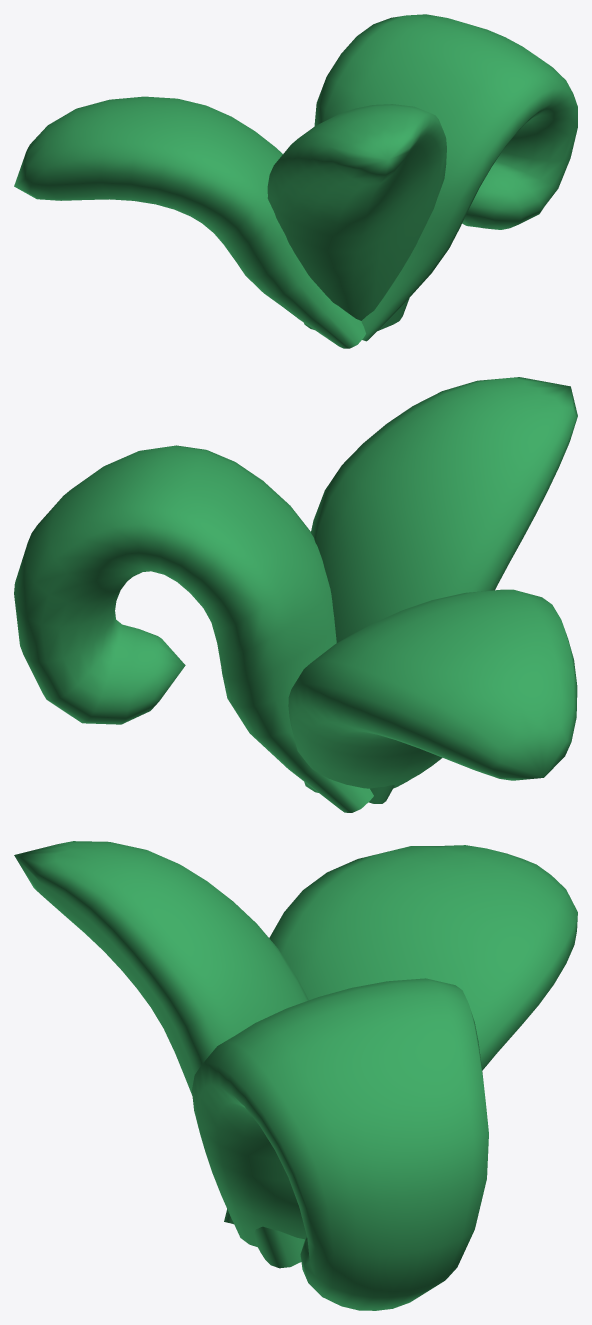
The model's file is Herb_C_03.fbx.
3 renders of one model, top to bottom at view 1: azimuth 30°, elevation 25°; view 2: azimuth 150°, elevation 25°; view 3: azimuth 270°, elevation 25°, orthographic. The views are drawn at different scales.
Parts seen in each view (by area): view 1: Herb_C_03_LOD0; view 2: Herb_C_03_LOD0; view 3: Herb_C_03_LOD0.
Part boxes in pixels (x1,y1,x2,y2): Herb_C_03_LOD0: [14, 14, 577, 348]; Herb_C_03_LOD0: [14, 377, 577, 812]; Herb_C_03_LOD0: [14, 841, 577, 1310].
Size of what is drawn, in the model's own units: 669 by 368 by 512.
